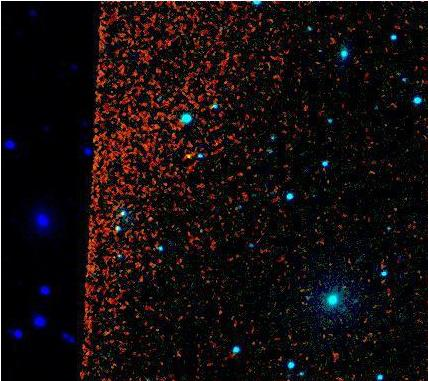star: (173, 141, 203, 171)
